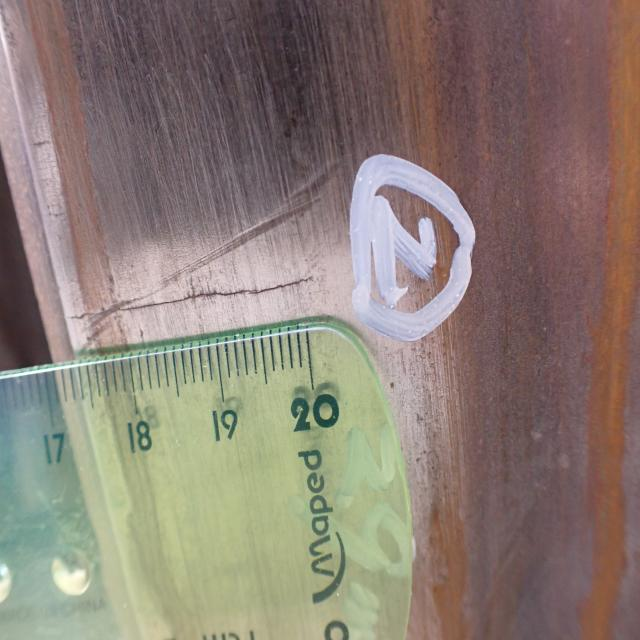Brake_Thermal_Cracks: (62, 269, 323, 320)
